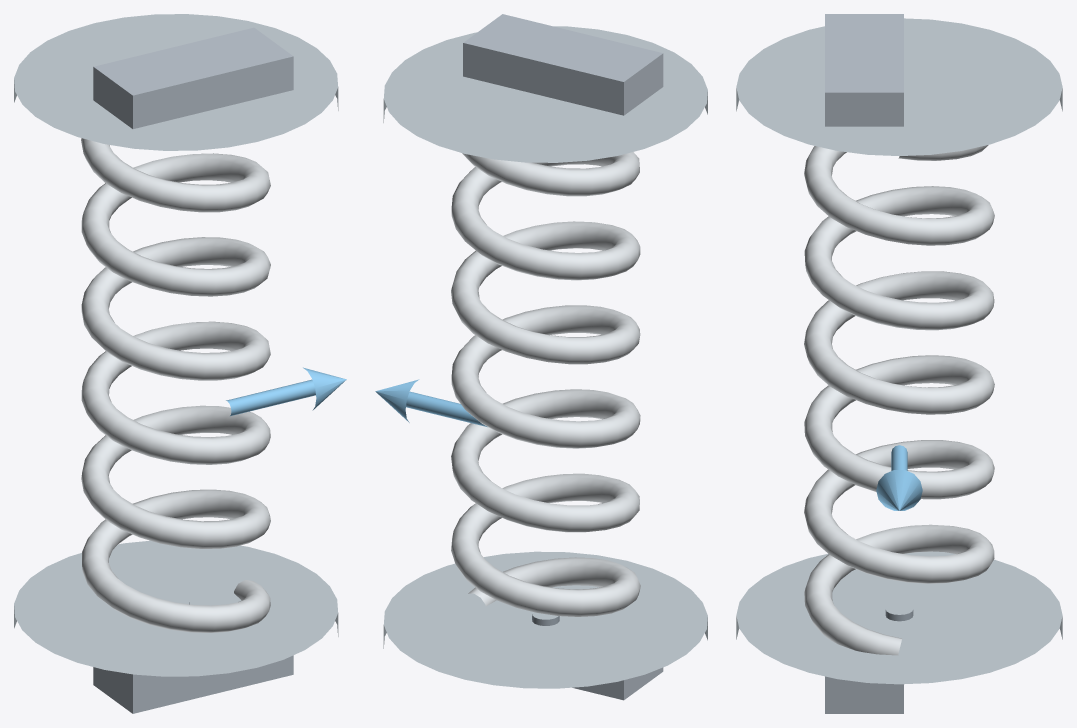
File: spring.glb
The picture shows the model from 3 angles, left to right: view 1: azimuth 30°, elevation 25°; view 2: azimuth 150°, elevation 25°; view 3: azimuth 270°, elevation 25°; orthographic projection.
Parts seen in each view (by area): view 1: spring_coil, spring_bottom_plate, spring_top_plate, mounting_bracket_1, mounting_bracket_2, spring_force; view 2: spring_coil, spring_bottom_plate, spring_top_plate, mounting_bracket_1, spring_force, mounting_bracket_2; view 3: spring_coil, spring_bottom_plate, spring_top_plate, mounting_bracket_1, mounting_bracket_2, spring_force.
Part boxes in pixels (x1=…): spring_coil: x1=81, y1=138, x2=270, y2=632; spring_bottom_plate: x1=14, y1=540, x2=338, y2=676; spring_top_plate: x1=14, y1=14, x2=338, y2=150; mounting_bracket_1: x1=93, y1=27, x2=293, y2=128; mounting_bracket_2: x1=93, y1=655, x2=293, y2=713; spring_force: x1=226, y1=367, x2=346, y2=416; spring_coil: x1=451, y1=152, x2=640, y2=616; spring_bottom_plate: x1=383, y1=551, x2=707, y2=688; spring_top_plate: x1=383, y1=26, x2=707, y2=162; mounting_bracket_1: x1=463, y1=14, x2=663, y2=115; spring_force: x1=375, y1=379, x2=487, y2=427; mounting_bracket_2: x1=572, y1=667, x2=663, y2=700; spring_coil: x1=804, y1=145, x2=994, y2=655; spring_bottom_plate: x1=736, y1=551, x2=1062, y2=684; spring_top_plate: x1=736, y1=18, x2=1062, y2=156; mounting_bracket_1: x1=825, y1=14, x2=903, y2=126; mounting_bracket_2: x1=825, y1=676, x2=903, y2=713; spring_force: x1=876, y1=445, x2=922, y2=510.
Size of the model in its own units: 0.8596 by 1.63 by 0.7764.
